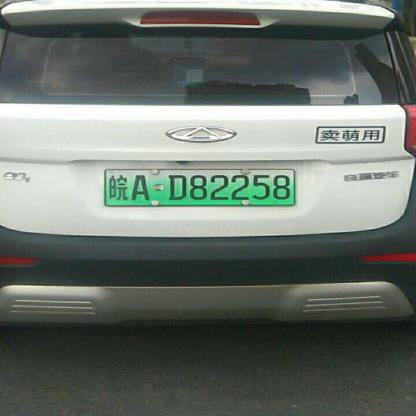lp: (105, 168, 294, 206)
